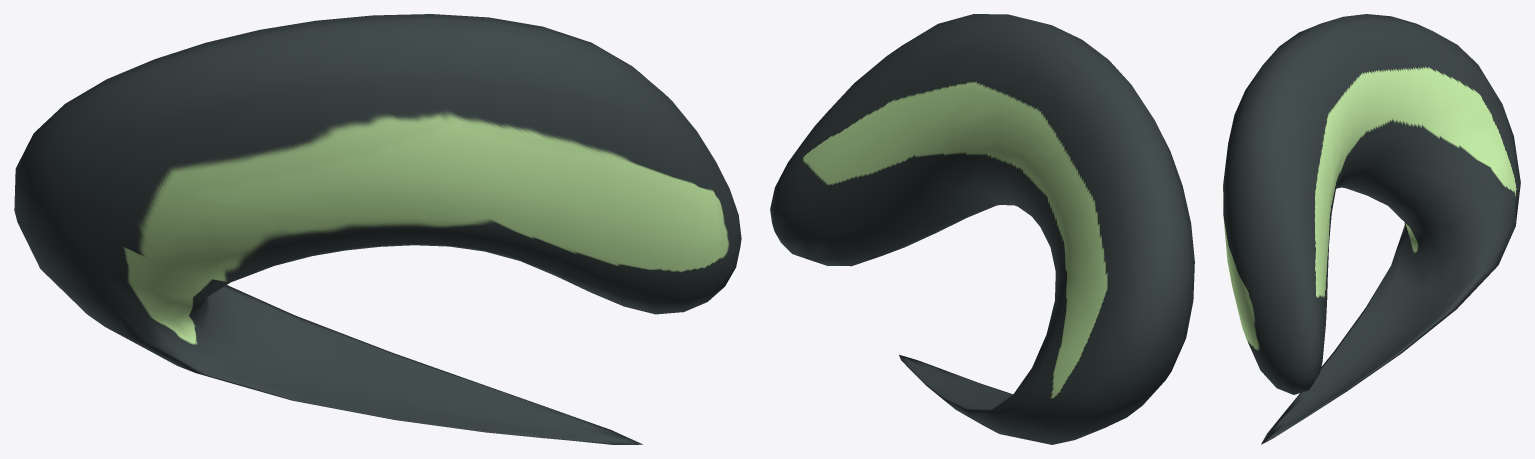
The model's file is ponetail_test2.obj.
3 views of the same model, side by side, from view 1: azimuth 30°, elevation 25°; view 2: azimuth 150°, elevation 25°; view 3: azimuth 270°, elevation 25° (orthographic). The views are drawn at different scales.
Visible parts, largest first — view 1: Cube; view 2: Cube; view 3: Cube.
Boxes of the visible parts, box(x1,y1,x2,y2) form: Cube: box(14, 14, 741, 444); Cube: box(770, 14, 1194, 444); Cube: box(1223, 14, 1520, 444).
Bounding box in the file's own units: 31.94 × 23.23 × 19.24.
